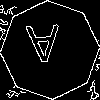A: (25, 25, 61, 72)
